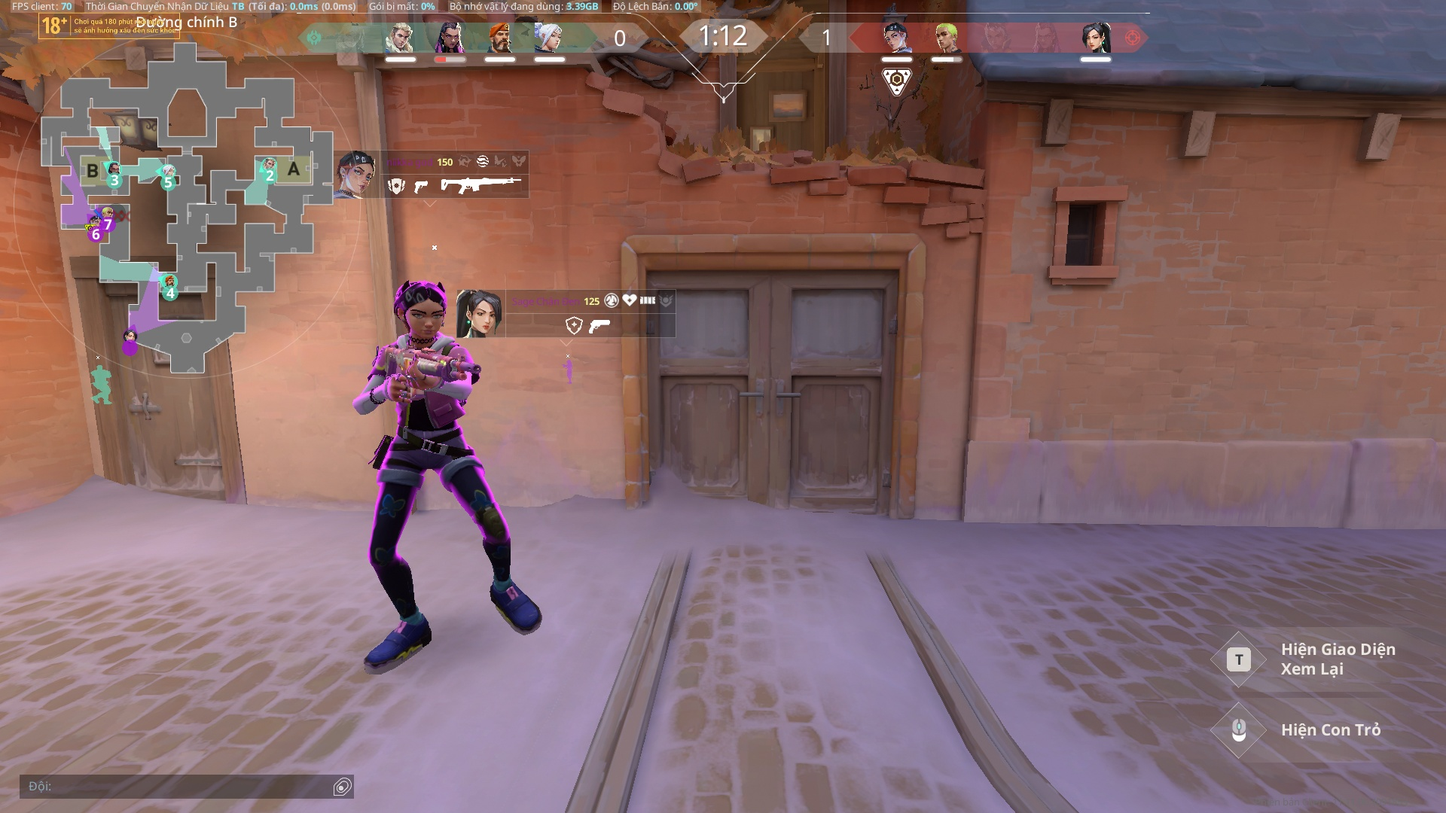body: (378, 337, 474, 428)
head: (398, 282, 447, 336)
